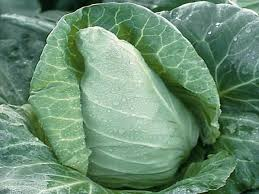cabbage: (62, 17, 211, 184)
